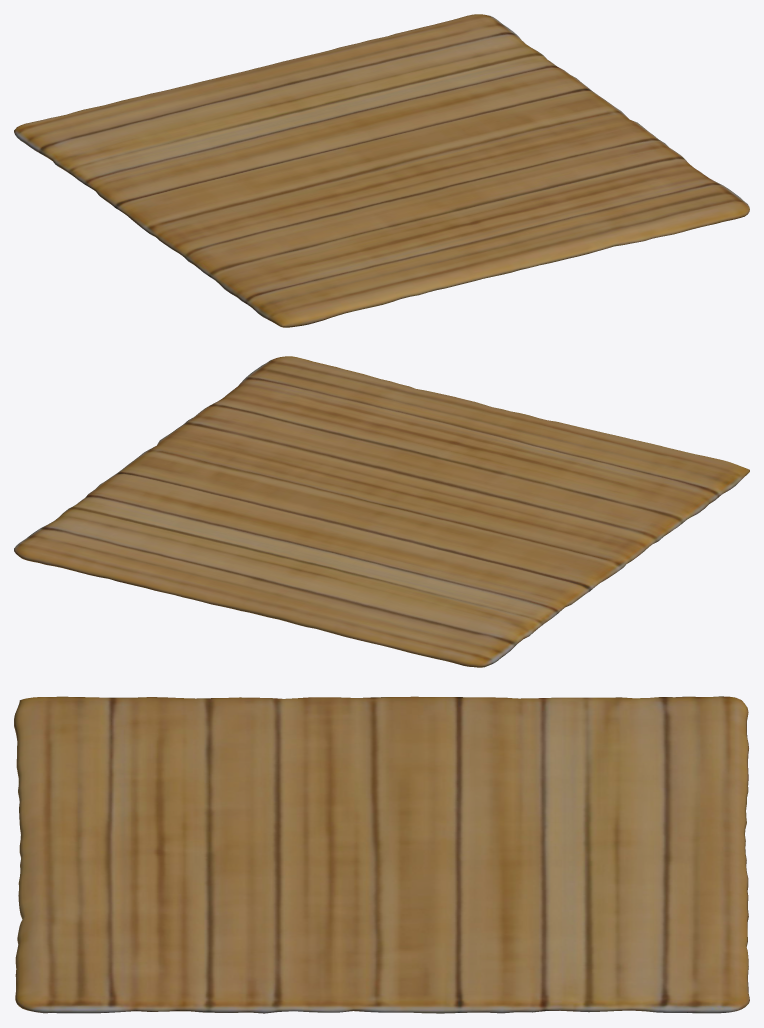
The model's file is a4939b06ea83_Wood_flor__3d_asset.fbx.
The picture shows the model from 3 angles, top to bottom: view 1: azimuth 30°, elevation 25°; view 2: azimuth 150°, elevation 25°; view 3: azimuth 270°, elevation 25°; orthographic projection. The views are drawn at different scales.
Parts seen in each view (by area): view 1: mesh; view 2: mesh; view 3: mesh.
Boxes of the visible parts, box(x1,y1,x2,y2) form: mesh: box(14, 14, 749, 327); mesh: box(14, 356, 749, 667); mesh: box(14, 696, 749, 1013).
Size of the model in its own units: 99.81 by 2.53 by 98.77.
